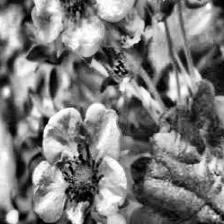Blossom Blight: (54, 139, 108, 215), (53, 0, 101, 26)
